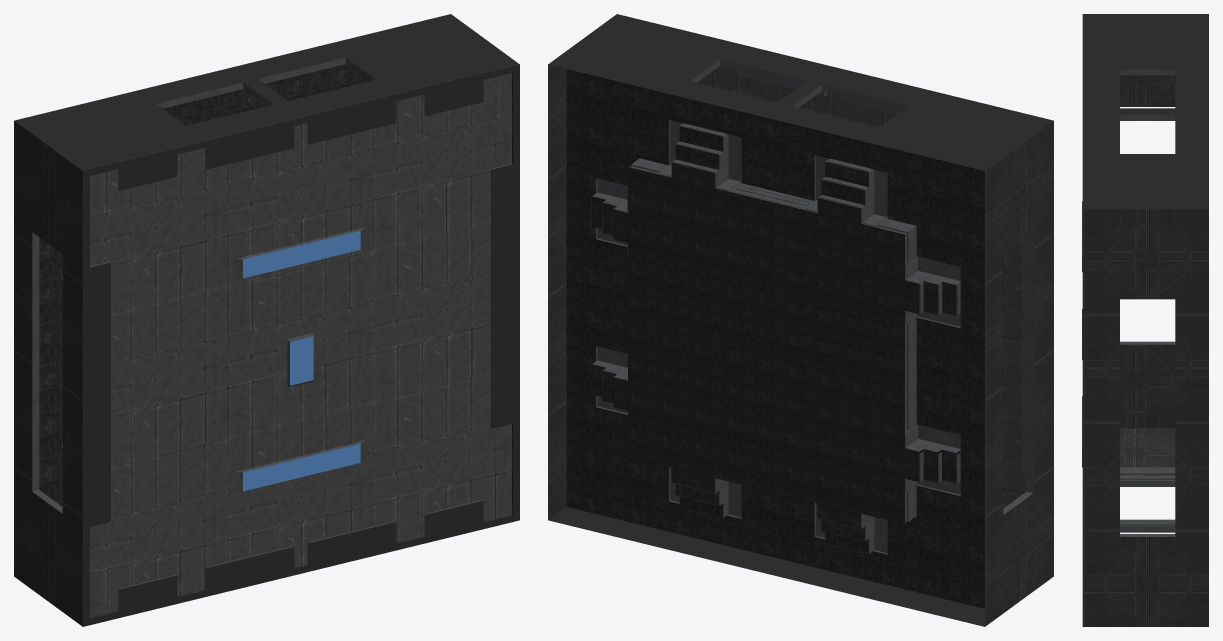
Rendered from Room.obj.
3 views of the same model, side by side, from view 1: azimuth 30°, elevation 25°; view 2: azimuth 150°, elevation 25°; view 3: azimuth 270°, elevation 25° (orthographic). The views are drawn at different scales.
Visible parts, largest first — view 1: Room_Grid; view 2: Room_Grid; view 3: Room_Grid.
Boxes of the visible parts, left/top/right/bottom form: Room_Grid: left=14, top=14, right=519, bottom=626; Room_Grid: left=548, top=14, right=1053, bottom=626; Room_Grid: left=1082, top=14, right=1208, bottom=626.
Bounding box in the file's own units: 193 × 193 × 53.04.
